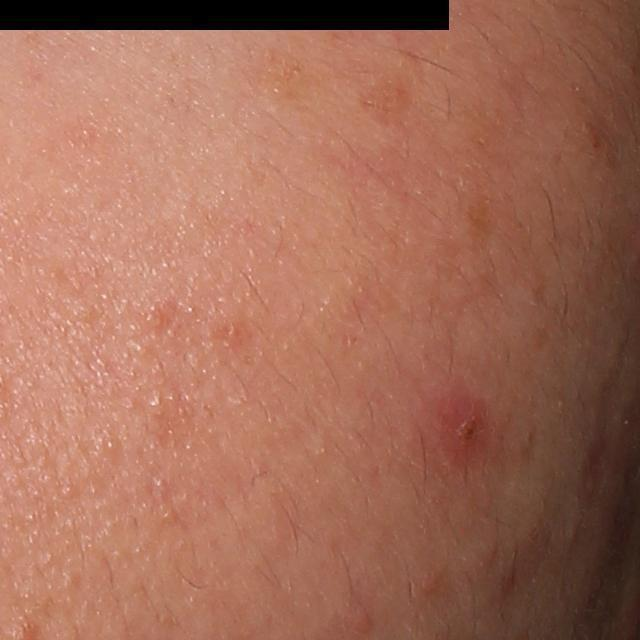melasma: (247, 45, 334, 109)
papule: (435, 401, 488, 471)
